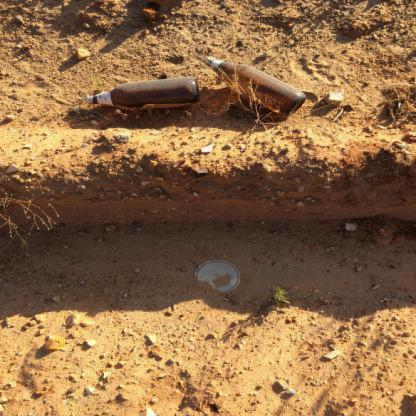Bottle: (204, 57, 213, 66), (86, 96, 92, 105)
Bottle cap: (204, 57, 306, 116), (86, 77, 200, 111)
Lid: (194, 260, 240, 293)
